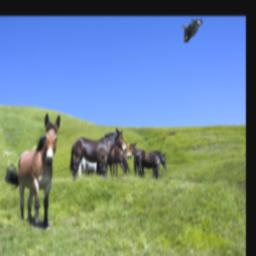Woodpecker: (180, 18, 203, 42)
